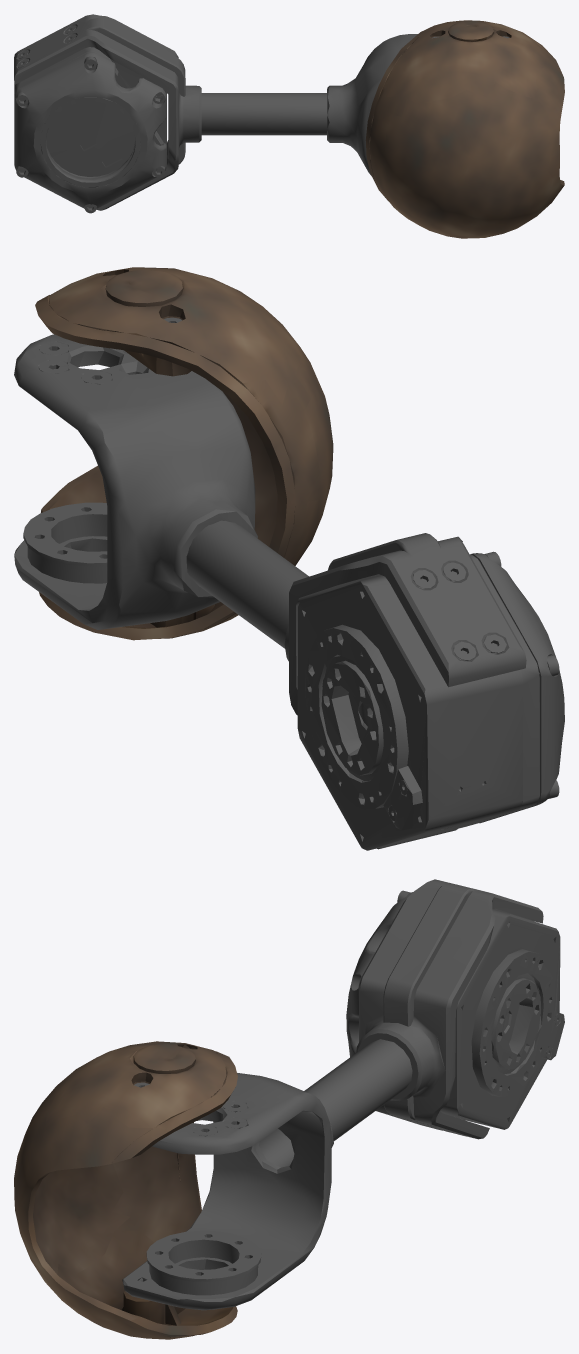
The model's file is upperarm_l.dae.
3 renders of one model, top to bottom at view 1: azimuth 30°, elevation 25°; view 2: azimuth 150°, elevation 25°; view 3: azimuth 270°, elevation 25°, orthographic. The views are drawn at different scales.
Parts seen in each view (by area): view 1: upperarm_l; view 2: upperarm_l; view 3: upperarm_l.
Boxes of the visible parts, bbox=[...] form: upperarm_l: bbox=[14, 14, 564, 238]; upperarm_l: bbox=[14, 267, 564, 850]; upperarm_l: bbox=[14, 879, 564, 1339].
Size of the model in its own units: 0.2136 by 0.1772 by 0.0975.
2 materials, 1 textured.
